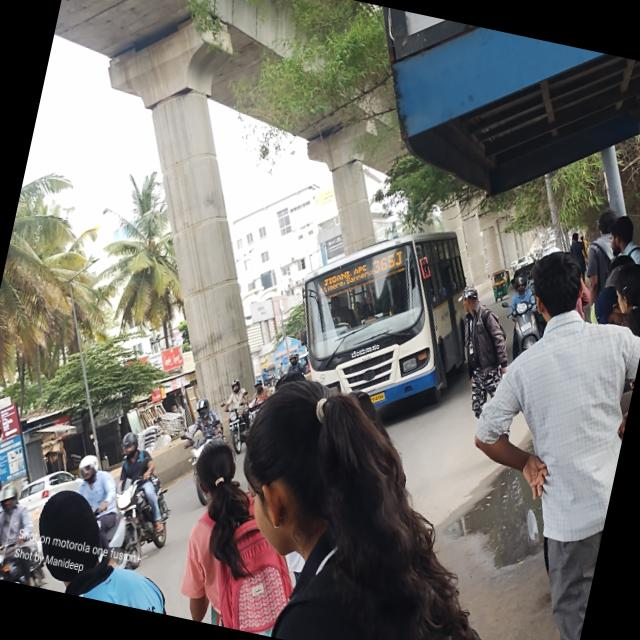bus: (260, 184, 501, 448)
display: (310, 230, 405, 310)
dnumber: (370, 243, 402, 279)
